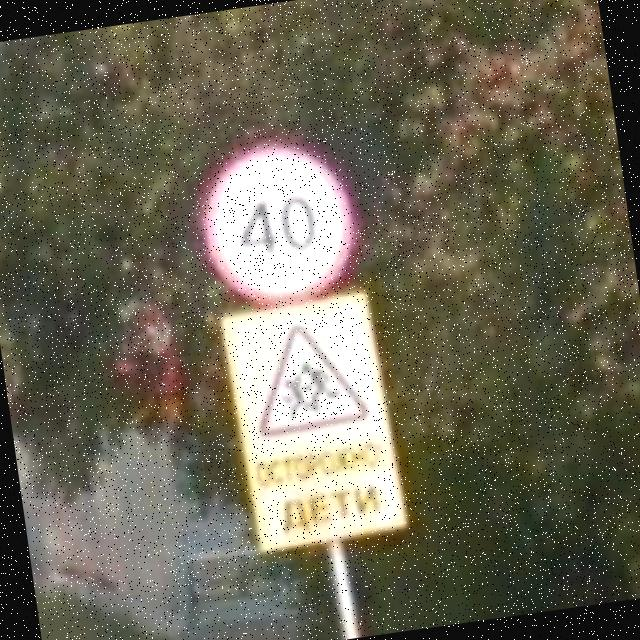Dzieci: (243, 314, 369, 439)
Ograniczenie predkosci do 40: (190, 133, 365, 317)
